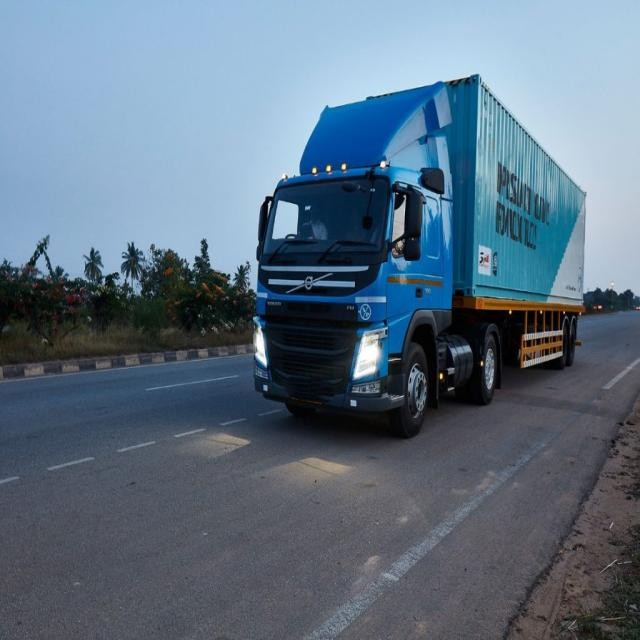truck: (246, 65, 587, 432)
